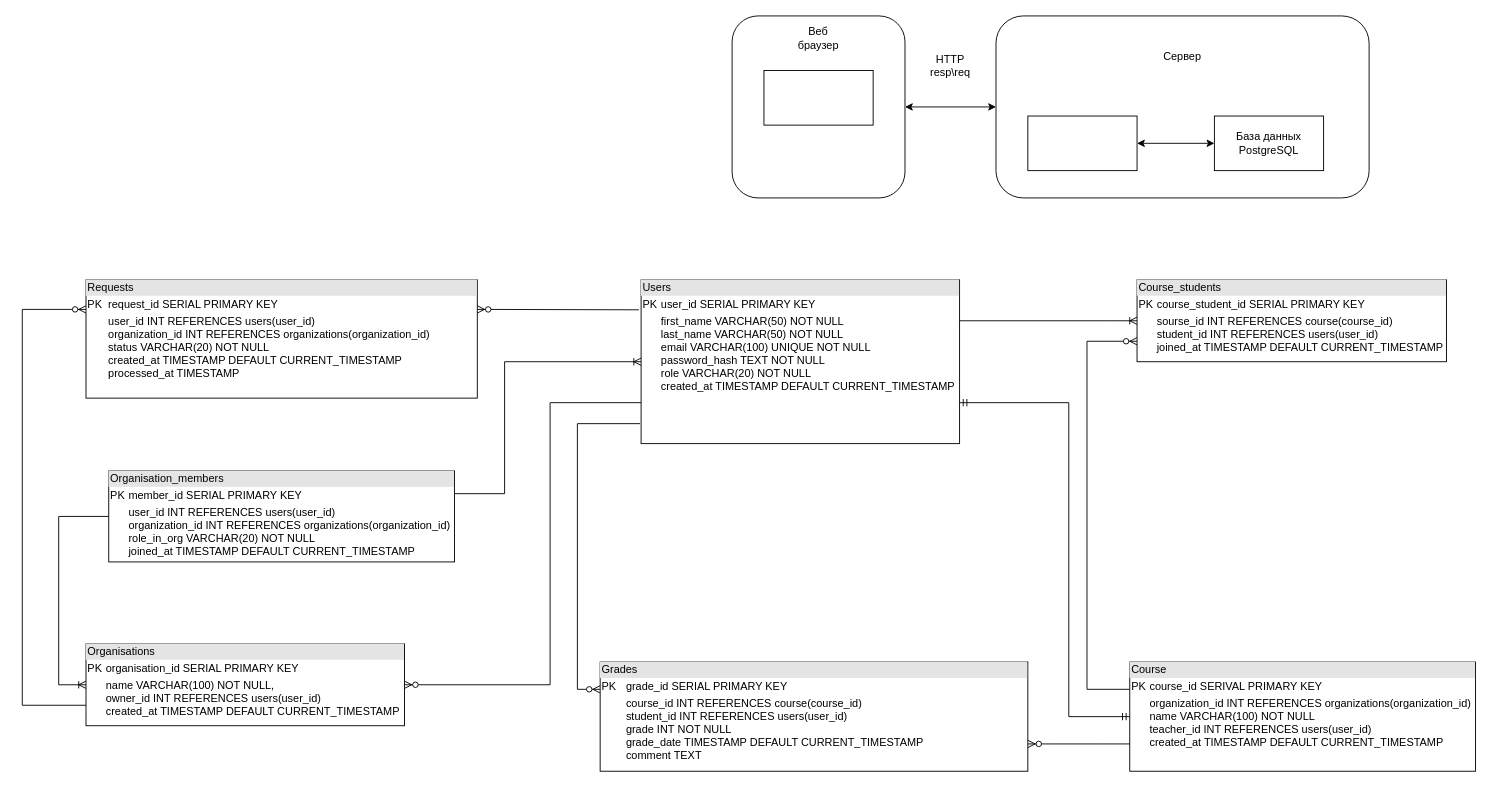
The diagram is 1491 pixels wide and 794 high, and some of its shapes have lost their labels. The shapes that lost their labels are listed below. From the top down, each one's box as (x1, y1, x2, y2) in pixels, then its label:
(763, 70, 873, 125): HTML5, CSS, TYPESCRIPT, REACT
(1027, 115, 1137, 171): Java Spring Boot приложение
